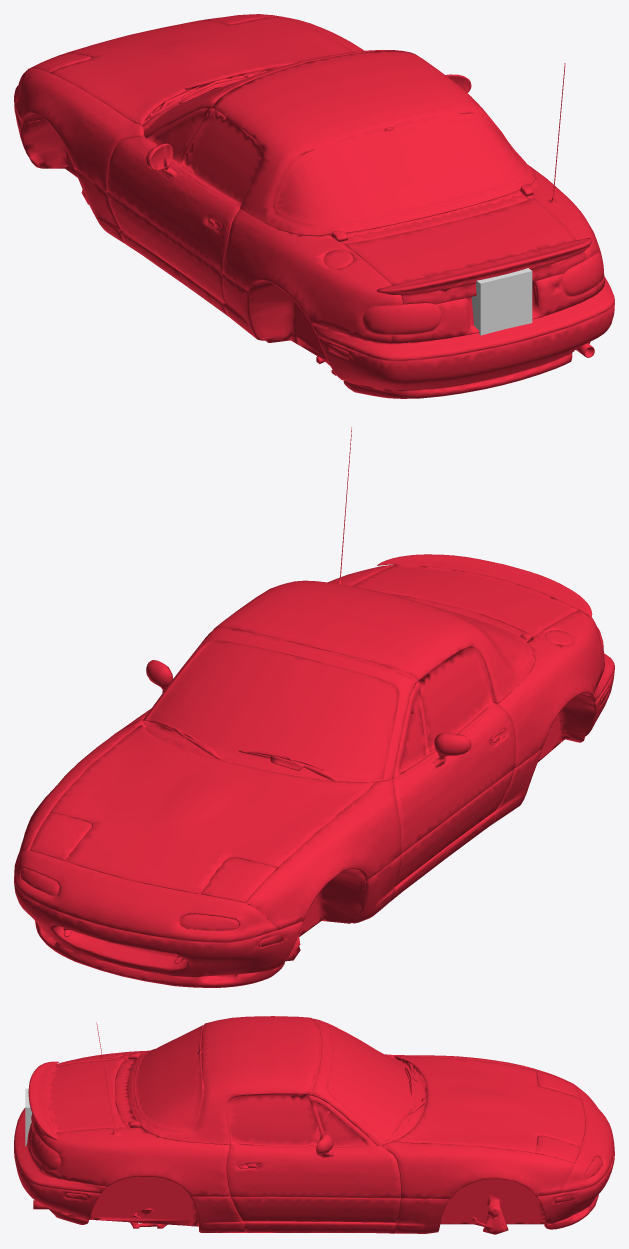
Rendered from miatanowheels4.glb.
3 views of the same model, one above another, from view 1: azimuth 30°, elevation 25°; view 2: azimuth 150°, elevation 25°; view 3: azimuth 270°, elevation 25° (orthographic). The views are drawn at different scales.
Visible parts, largest first — view 1: REMOVEDWHEELS1TO1SCALEMIATA, Cube; view 2: REMOVEDWHEELS1TO1SCALEMIATA; view 3: REMOVEDWHEELS1TO1SCALEMIATA.
Part boxes in pixels (x1,y1,x2,y2): REMOVEDWHEELS1TO1SCALEMIATA: (14,14,614,398); Cube: (471,268,532,335); REMOVEDWHEELS1TO1SCALEMIATA: (14,427,614,987); REMOVEDWHEELS1TO1SCALEMIATA: (14,1016,614,1234).
Size of the model in its own units: 74.18 by 62.97 by 161.
